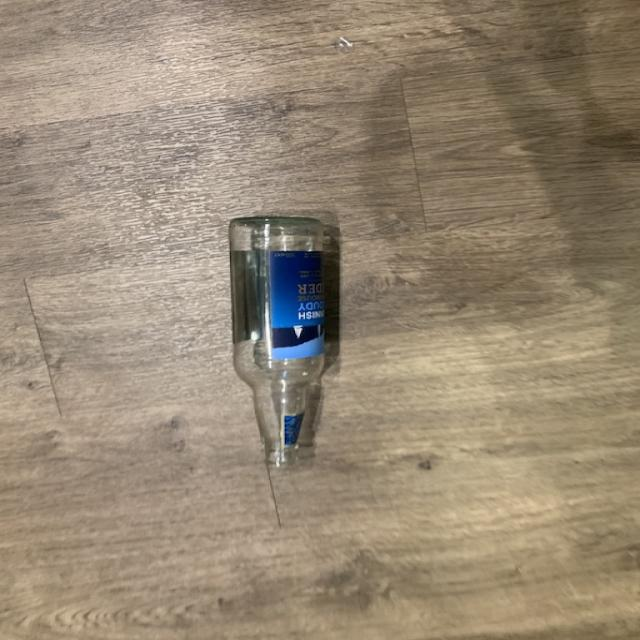litter: (226, 216, 332, 474)
